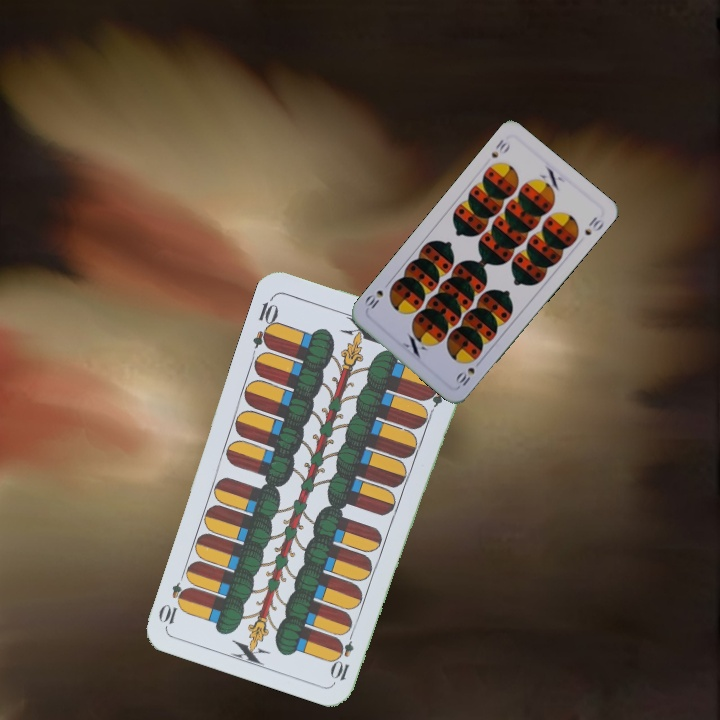E10: (249, 292, 281, 352), (329, 625, 357, 683)
S10: (452, 356, 483, 390), (487, 135, 513, 161)
